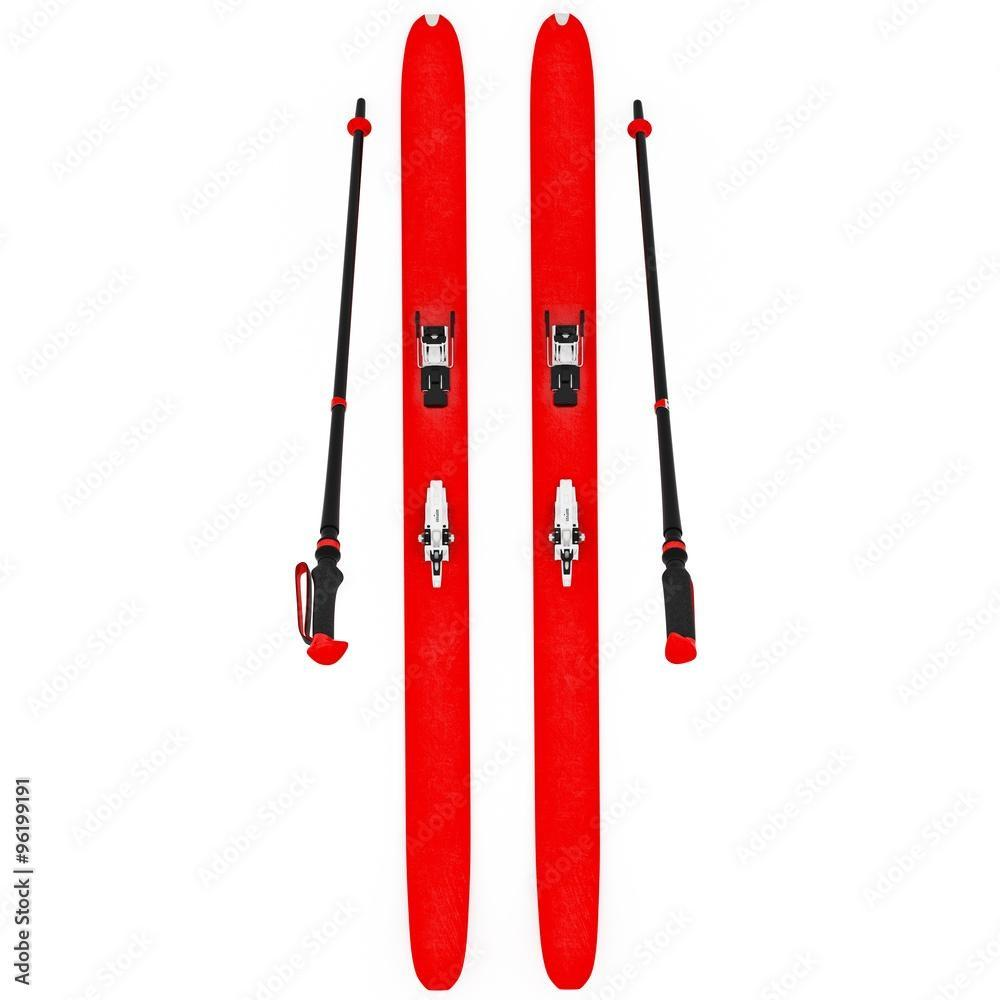Skis: (254, 14, 761, 1000)
